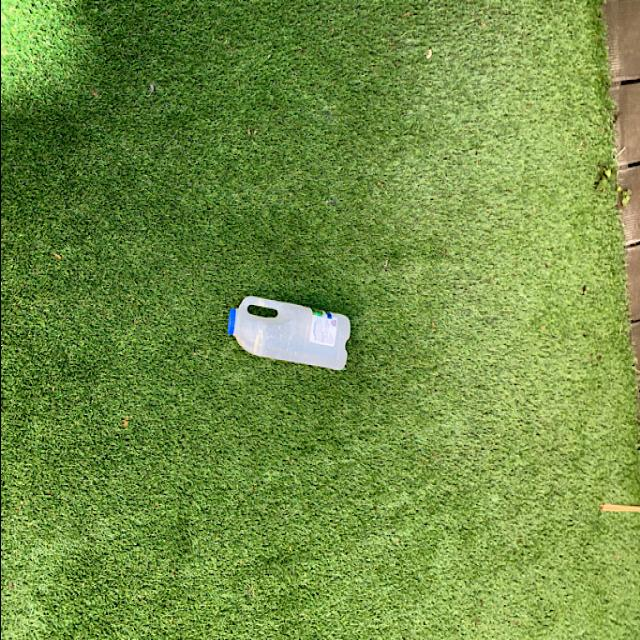litter: (225, 288, 349, 372)
